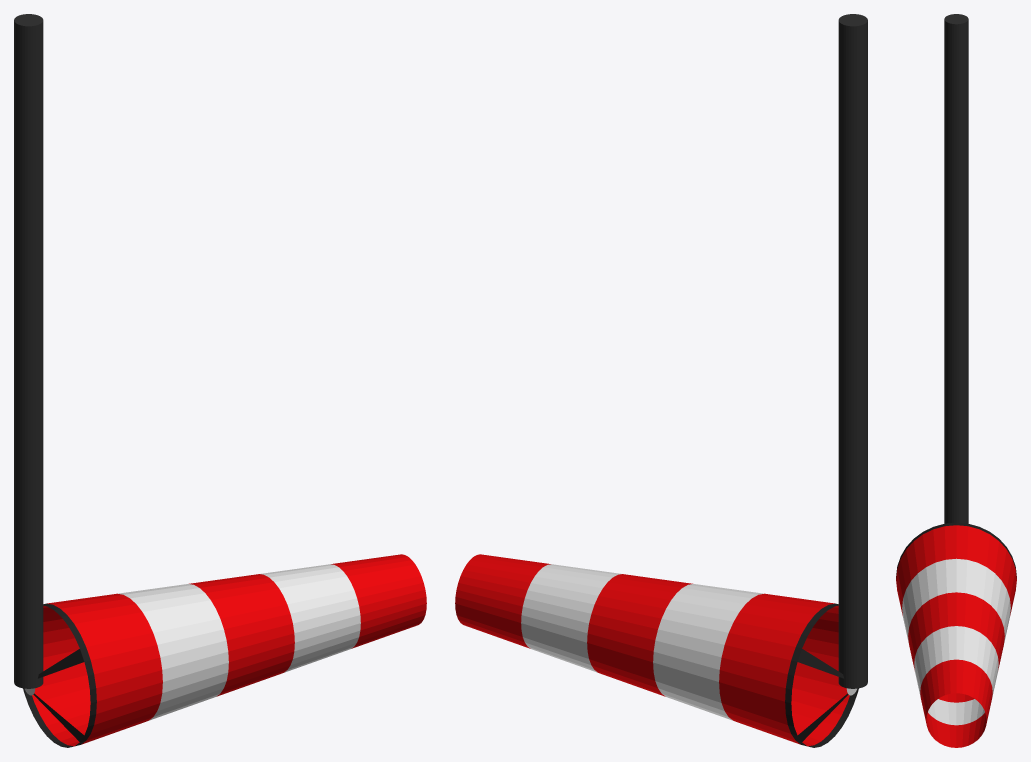
Rendered from Wind_Sleeve.fbx.
3 views of the same model, side by side, from view 1: azimuth 30°, elevation 25°; view 2: azimuth 150°, elevation 25°; view 3: azimuth 270°, elevation 25° (orthographic). The views are drawn at different scales.
Parts seen in each view (by area): view 1: Pole, 1, 2, 3, 4, 5, Holder; view 2: Pole, 1, 2, 3, 4, 5, Holder; view 3: Pole, 1, 4, 2, 5, 3, Holder.
Boxes of the visible parts, x1,y1,x2,y2 form: Pole: (14, 14, 43, 688); 1: (32, 593, 162, 746); 2: (118, 584, 228, 720); 3: (189, 574, 294, 696); 4: (260, 564, 360, 672); 5: (331, 554, 426, 648); Holder: (23, 603, 96, 747); Pole: (838, 14, 867, 688); 1: (719, 593, 849, 746); 2: (653, 584, 763, 720); 3: (587, 574, 692, 696); 4: (521, 564, 621, 672); 5: (455, 554, 550, 648); Holder: (785, 603, 858, 747); Pole: (944, 14, 968, 523); 1: (896, 525, 1016, 615); 4: (914, 626, 998, 725); 2: (902, 558, 1010, 643); 5: (920, 659, 992, 747); 3: (908, 592, 1004, 702); Holder: (896, 522, 1016, 578).
Bounding box in the file's own units: 124 × 220 × 40.
